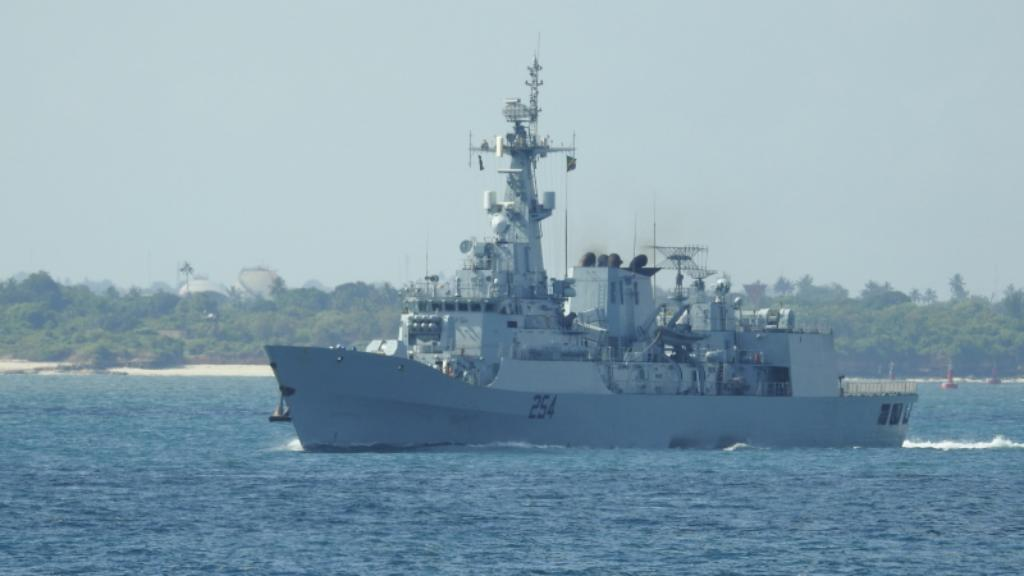Warship: (261, 28, 925, 464)
